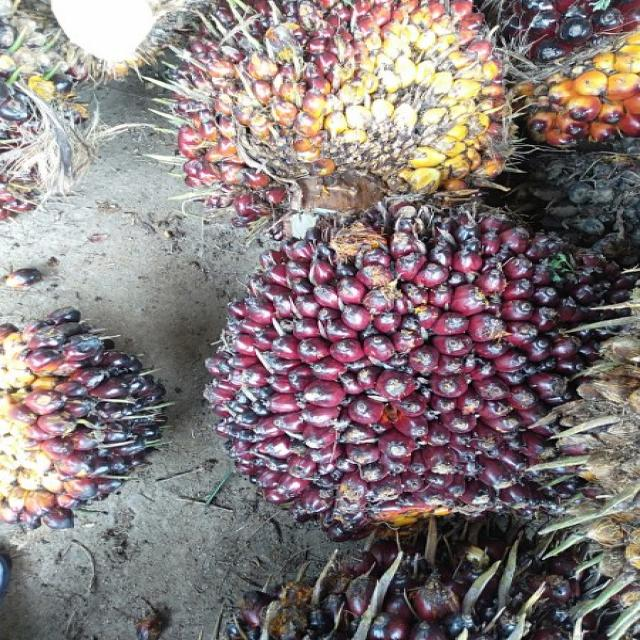fraksi 1: (207, 198, 594, 519)
